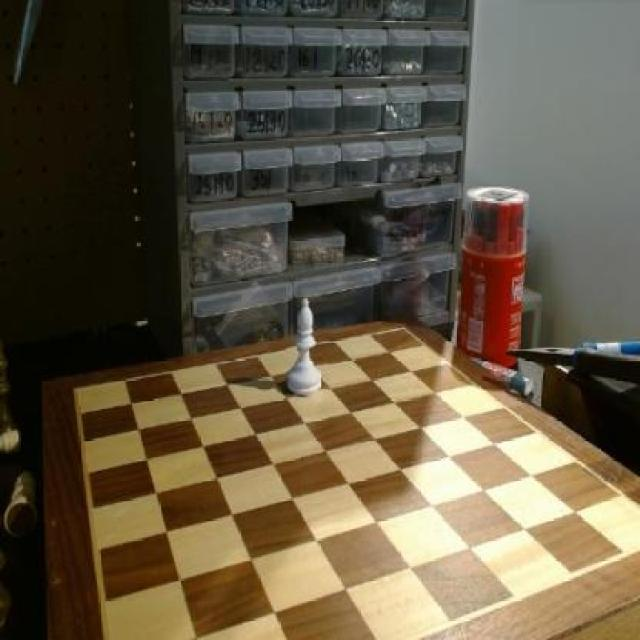black-rook: (288, 298, 330, 397)
